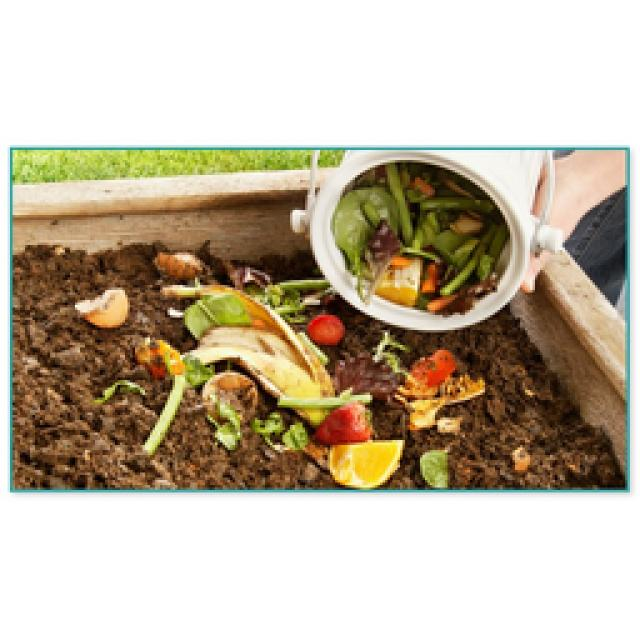food_waste: (140, 268, 402, 482), (332, 165, 508, 308)
